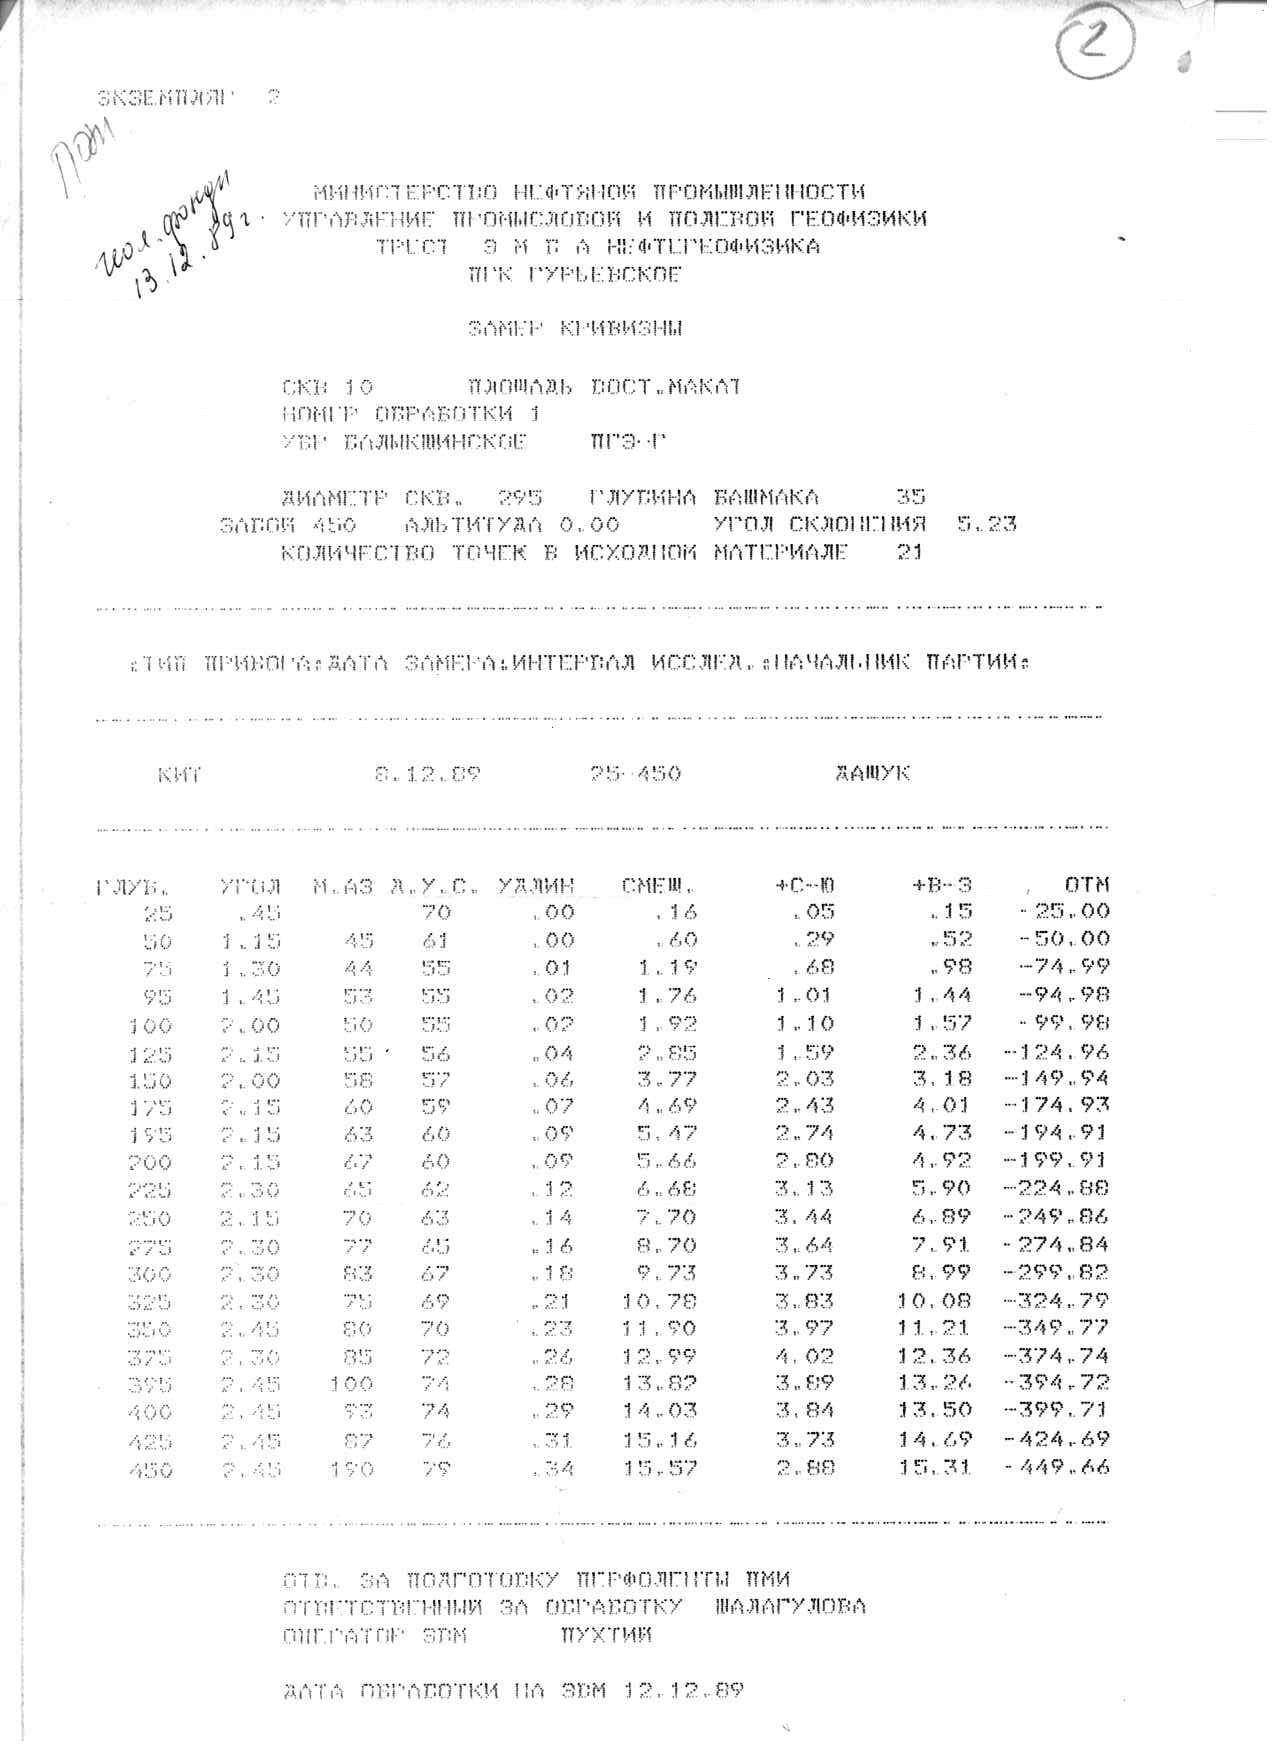Borderless: (98, 830, 1161, 1527)
